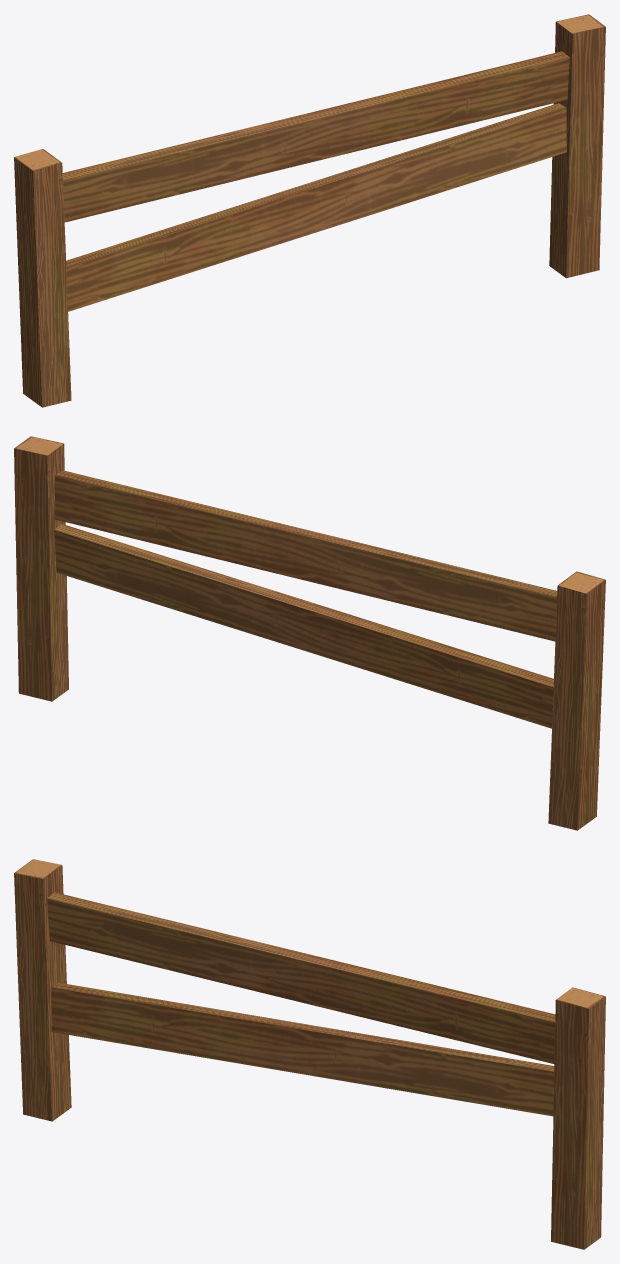
The model's file is Prop_WoodenFence_Single.gltf.
3 views of the same model, one above another, from view 1: azimuth 30°, elevation 25°; view 2: azimuth 150°, elevation 25°; view 3: azimuth 330°, elevation 25° (orthographic).
Visible parts, largest first — view 1: Prop_WoodenFence_Single; view 2: Prop_WoodenFence_Single; view 3: Prop_WoodenFence_Single.
Part boxes in pixels (x1,y1,x2,y2): Prop_WoodenFence_Single: (14, 14, 605, 407); Prop_WoodenFence_Single: (14, 436, 605, 830); Prop_WoodenFence_Single: (14, 859, 605, 1249).
Size of the model in its own units: 2.06 by 0.8381 by 0.1198.
1 material, 1 textured.
